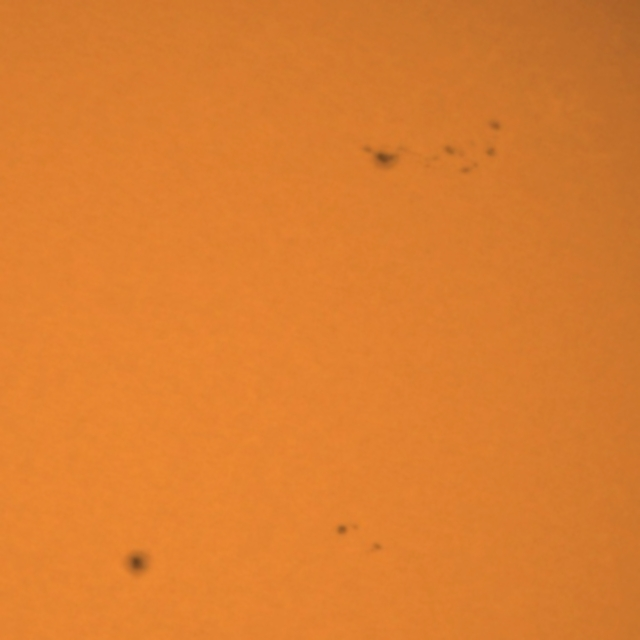sunspot: (438, 138, 496, 176), (360, 142, 404, 171), (122, 548, 153, 580), (334, 521, 362, 539), (486, 117, 504, 135), (368, 540, 384, 556), (483, 145, 498, 160)
